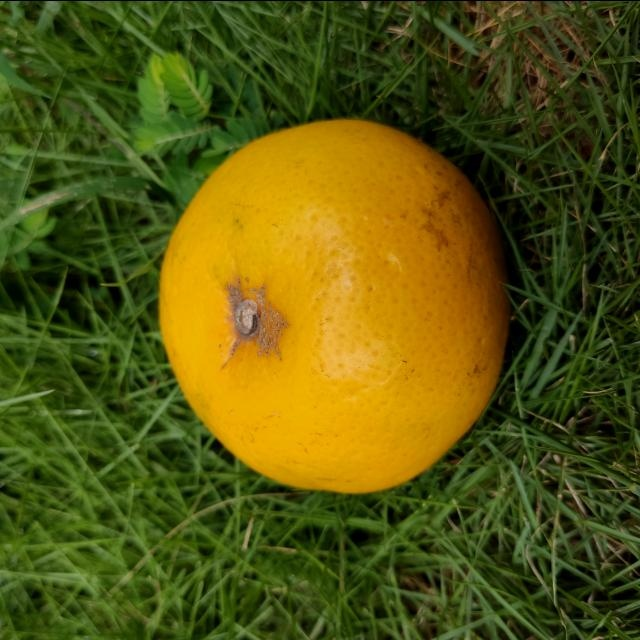agrume: (155, 109, 509, 492)
